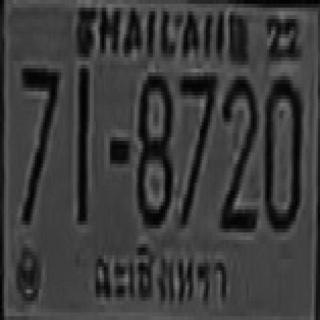N00: (263, 72, 300, 229)
N01: (75, 65, 88, 221)
N02: (219, 72, 256, 229)
N07: (177, 69, 216, 225), (20, 65, 57, 221), (20, 65, 57, 206)
N08: (137, 70, 171, 223)
P07: (88, 240, 235, 309)
